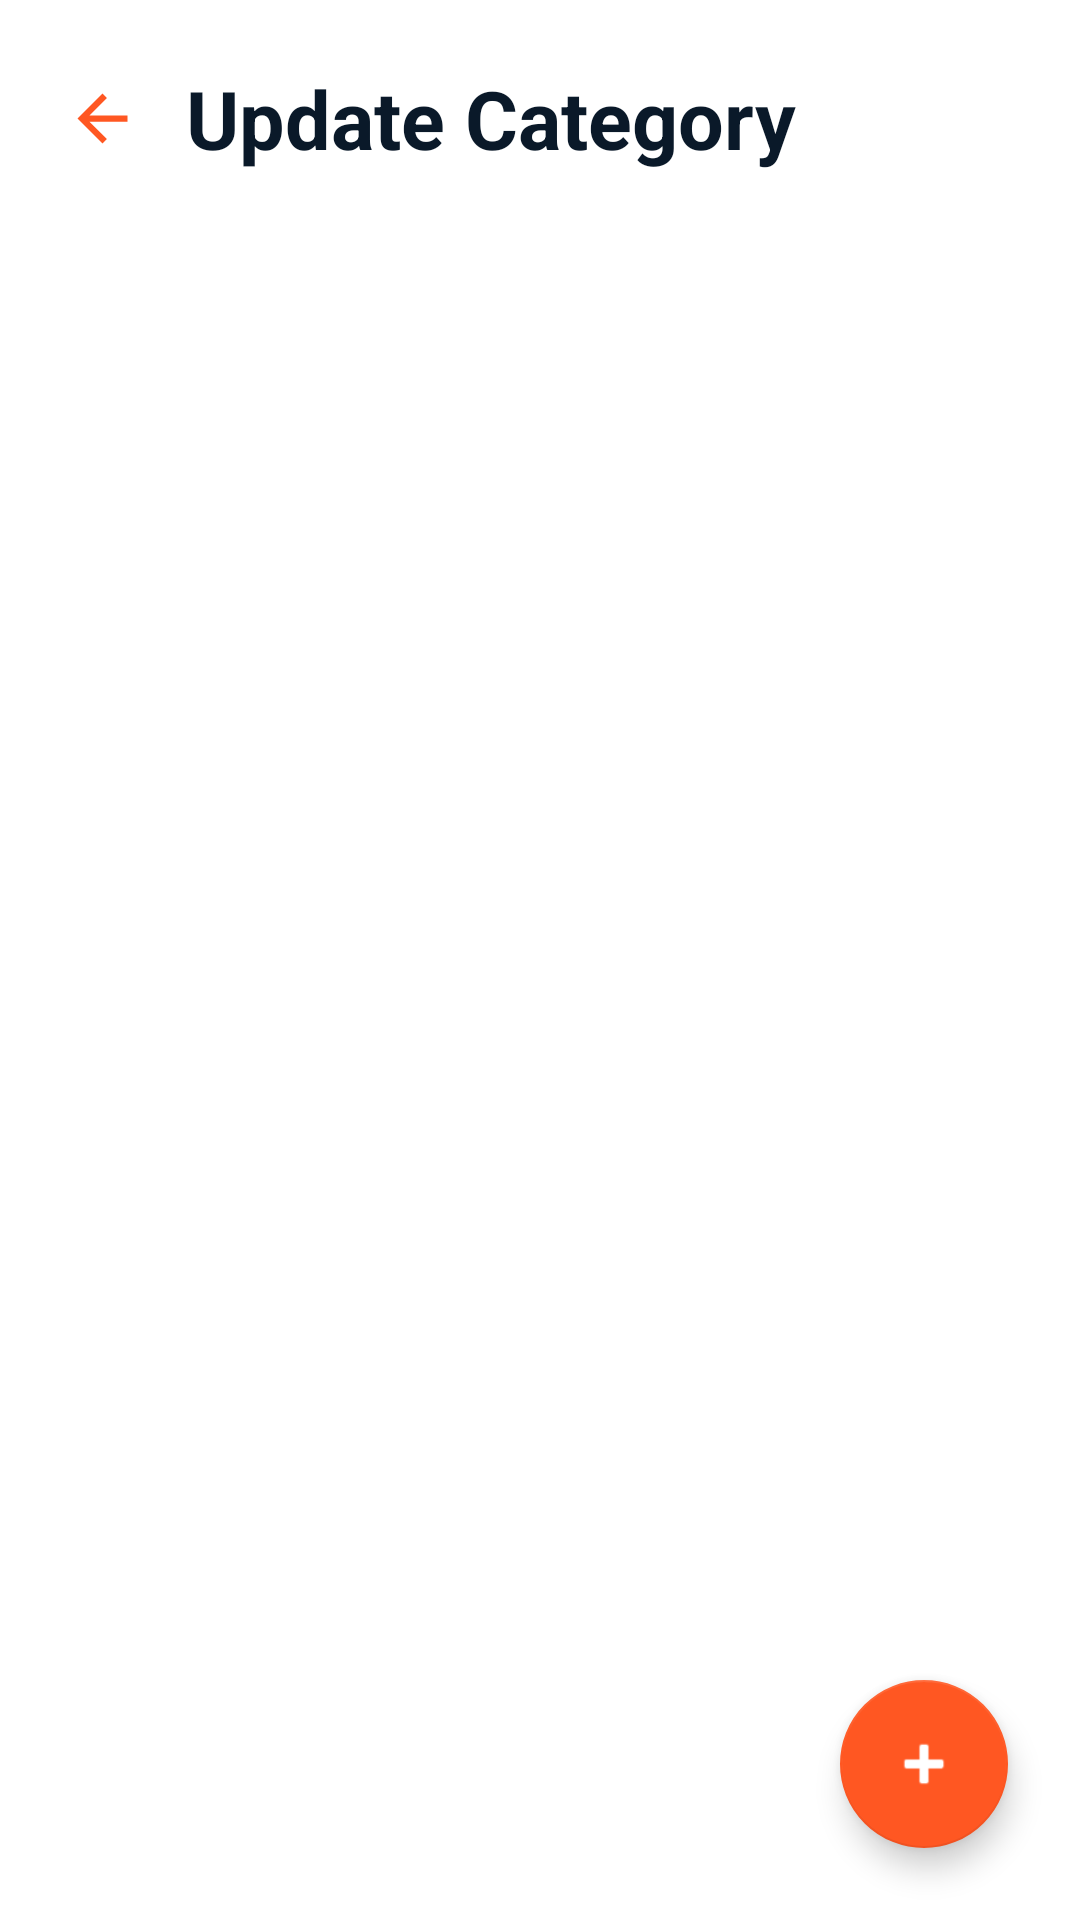

Named icons in this screenshot (1080×1920) and their bounding boxes, (x1, y1, x2, y2):
add: (840, 1680, 1008, 1848)
arrow back: (77, 93, 128, 144)
